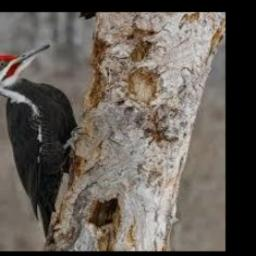Woodpecker: (0, 43, 78, 240)
